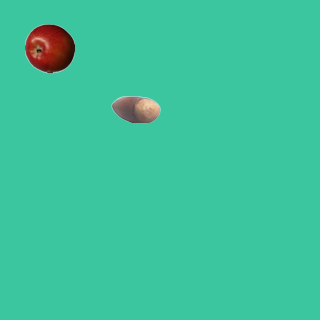Apple Braeburn: (24, 23, 74, 73)
Hazelnut: (110, 84, 160, 134)
